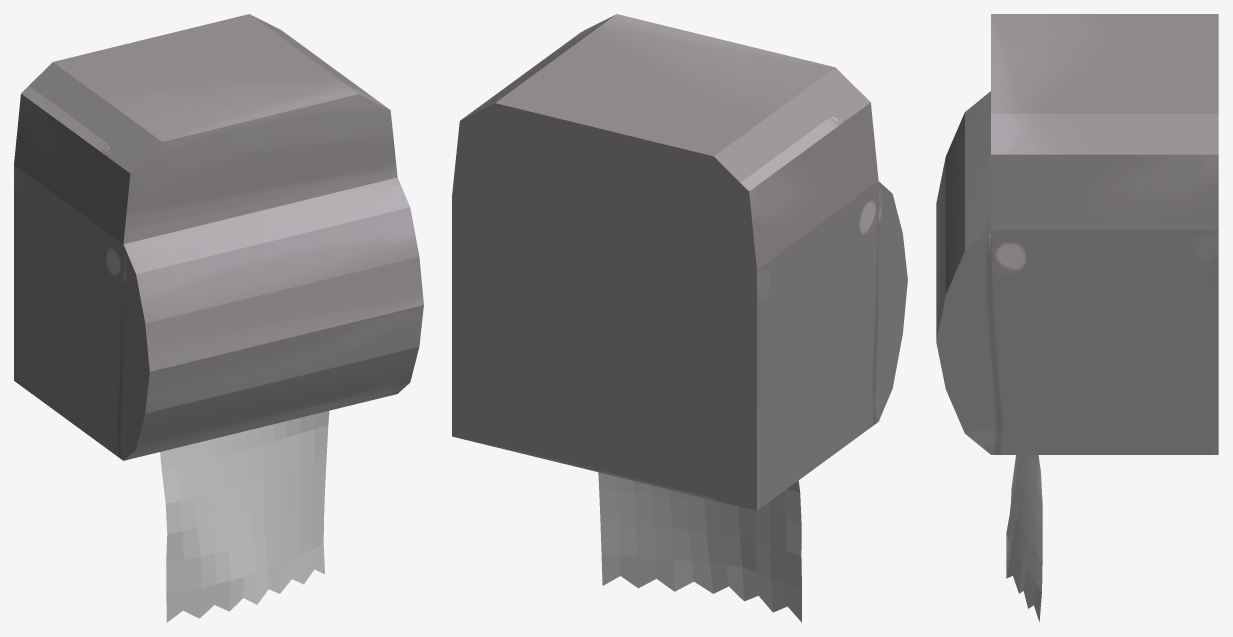
File: tissueHolder.fbx
The picture shows the model from 3 angles, left to right: view 1: azimuth 30°, elevation 25°; view 2: azimuth 150°, elevation 25°; view 3: azimuth 270°, elevation 25°; orthographic projection. The views are drawn at different scales.
Parts seen in each view (by area): view 1: dispenser; view 2: dispenser; view 3: dispenser.
Part boxes in pixels (<box>): dispenser: <box>14,14,423,622</box>; dispenser: <box>452,14,907,622</box>; dispenser: <box>936,14,1218,622</box>.
Bounding box in the file's own units: 114 × 197 × 98.02.
